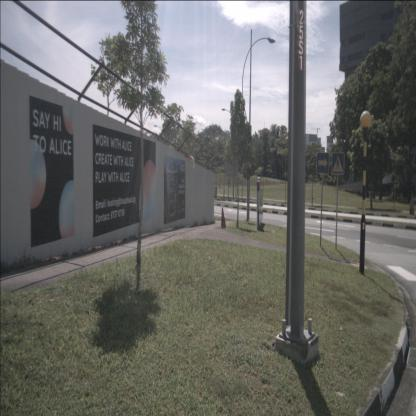movable_object-trafficcone: (221, 207, 226, 229)
